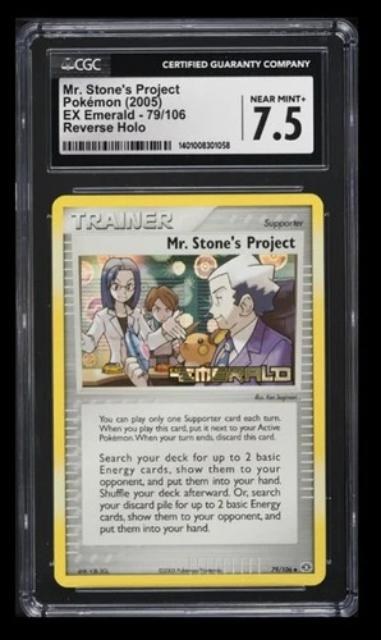Card: (47, 188, 334, 592)
Name: (161, 231, 303, 254)
